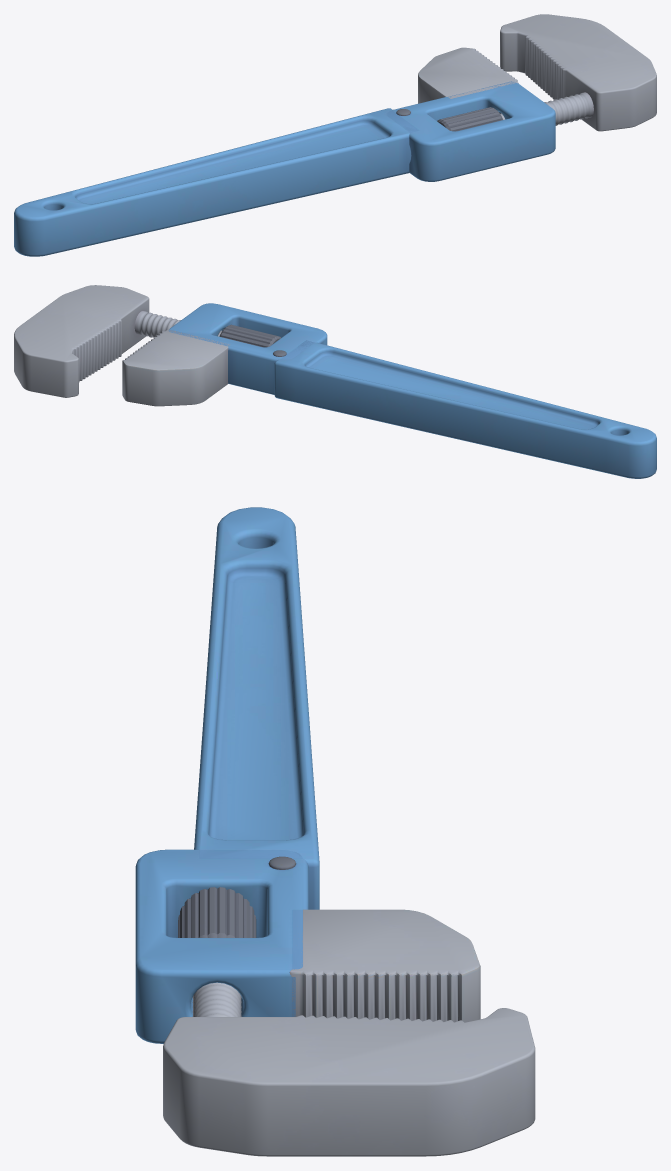
File: pipe-wrench.glb
3 renders of one model, top to bottom at view 1: azimuth 30°, elevation 25°; view 2: azimuth 150°, elevation 25°; view 3: azimuth 270°, elevation 25°, orthographic. The views are drawn at different scales.
Parts seen in each view (by area): view 1: pipe-wrench_body, pipe-wrench_jaw_carriage, pipe-wrench_knurl_crank; view 2: pipe-wrench_body, pipe-wrench_jaw_carriage, pipe-wrench_knurl_crank; view 3: pipe-wrench_body, pipe-wrench_jaw_carriage, pipe-wrench_knurl_crank.
Boxes of the visible parts, x1,y1,x2,y2 form: pipe-wrench_body: (14, 47, 555, 256); pipe-wrench_jaw_carriage: (500, 14, 656, 131); pipe-wrench_knurl_crank: (437, 107, 503, 131); pipe-wrench_body: (122, 303, 656, 478); pipe-wrench_jaw_carriage: (14, 285, 221, 397); pipe-wrench_knurl_crank: (219, 324, 280, 347); pipe-wrench_body: (135, 507, 480, 1043); pipe-wrench_jaw_carriage: (163, 982, 535, 1156); pipe-wrench_knurl_crank: (178, 887, 256, 937).
Size of the model in its own units: 0.4193 by 0.0278 by 0.1225.
Materials: 3 (3 with a texture image).
